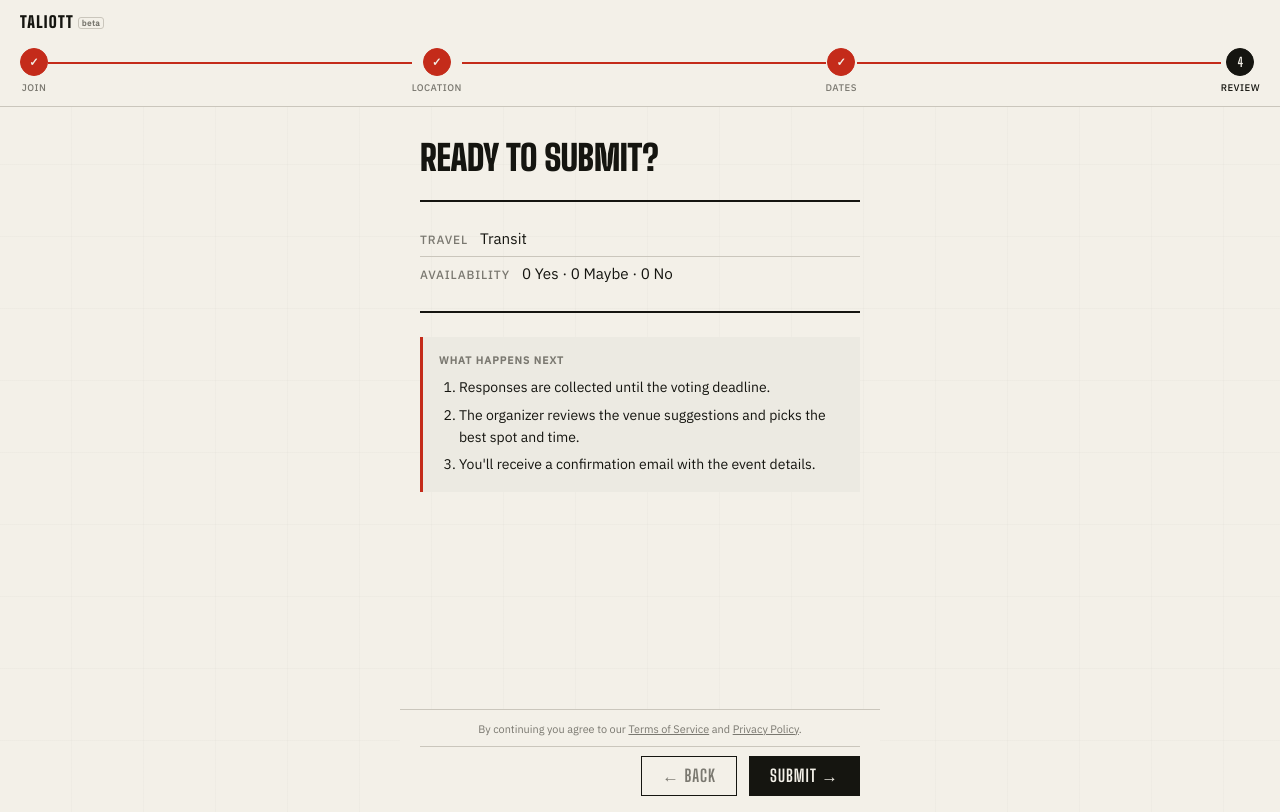
ResponseWizard › shows a submit error when /confirm throws a network error
This screenshot has width=1280, height=812.
Click the button with test id "submit-btn" at (805, 776), box [749,756,860,796]
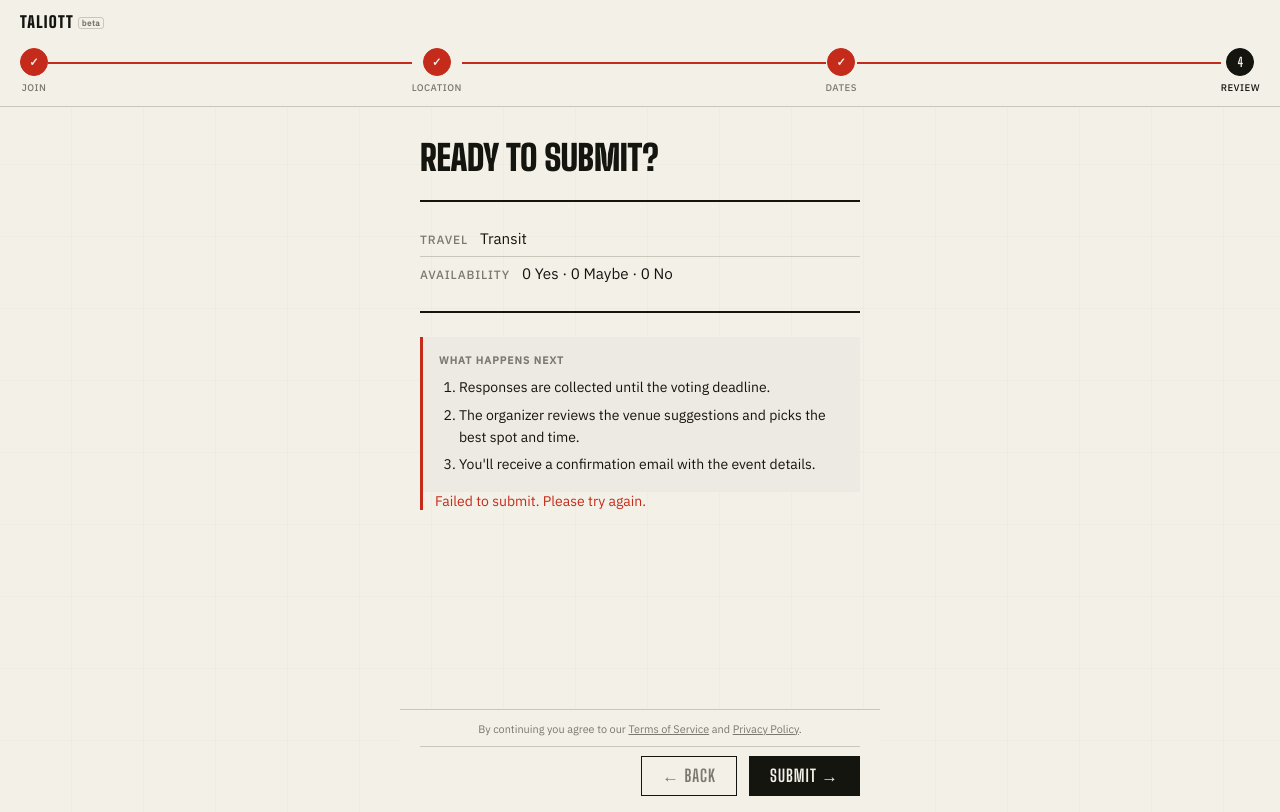
Now the message "Failed to submit. Please try again." is shown, box [420,492,860,510]
